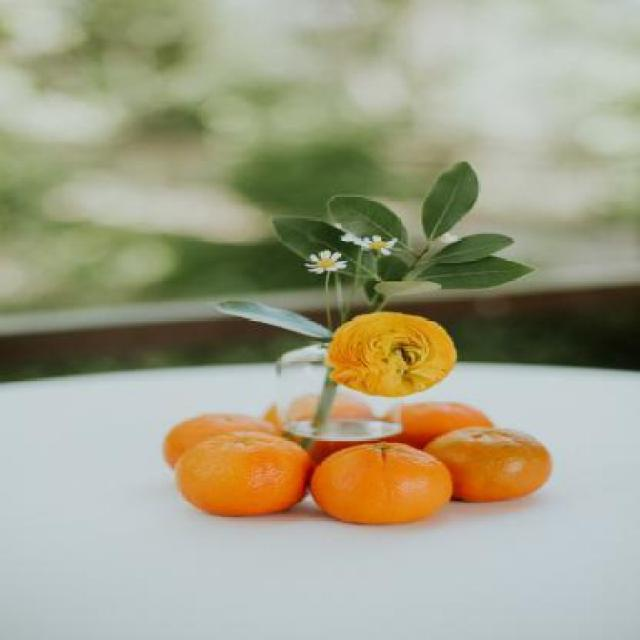Jeruk Sudah Matang: (308, 441, 452, 527), (177, 429, 314, 518), (360, 398, 500, 471), (164, 406, 292, 484), (424, 426, 554, 500)
